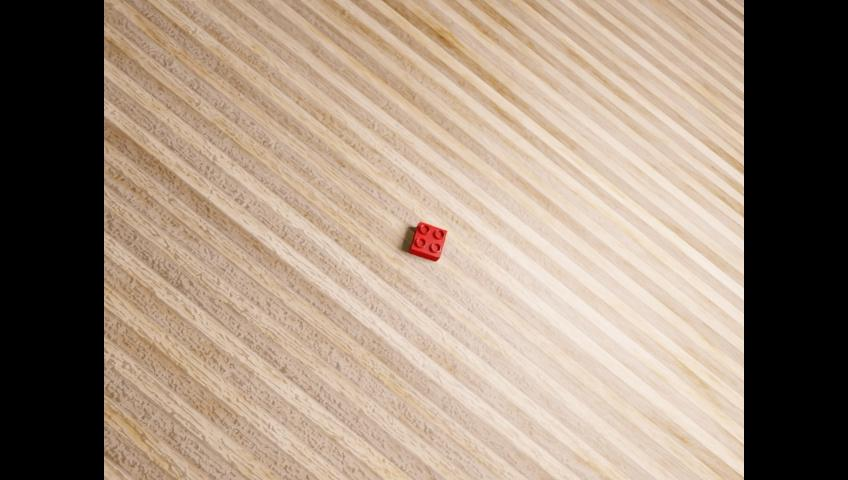2x2_red: (409, 221, 447, 262)
